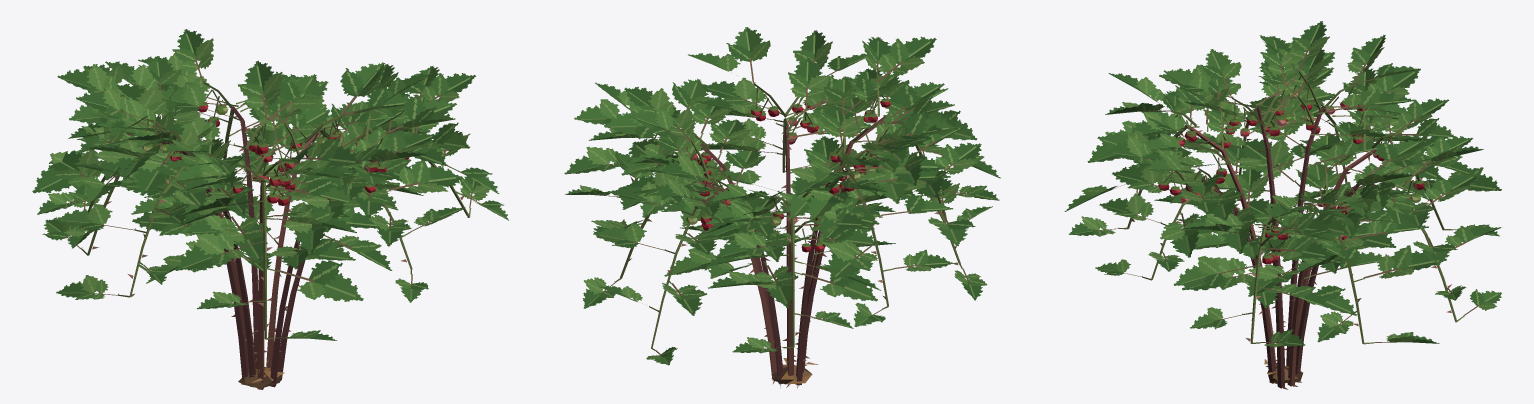
Rendered from raspberry_bush3_v1.fbx.
3 views of the same model, side by side, from view 1: azimuth 30°, elevation 25°; view 2: azimuth 150°, elevation 25°; view 3: azimuth 270°, elevation 25° (orthographic). The views are drawn at different scales.
Visible parts, largest first — view 1: raspberry_bush3_v1; view 2: raspberry_bush3_v1; view 3: raspberry_bush3_v1.
Part boxes in pixels (x1,y1,x2,y2): raspberry_bush3_v1: (32, 29, 508, 389); raspberry_bush3_v1: (564, 27, 1000, 388); raspberry_bush3_v1: (1064, 21, 1501, 389).
Size of the model in its own units: 213 by 144 by 207.
